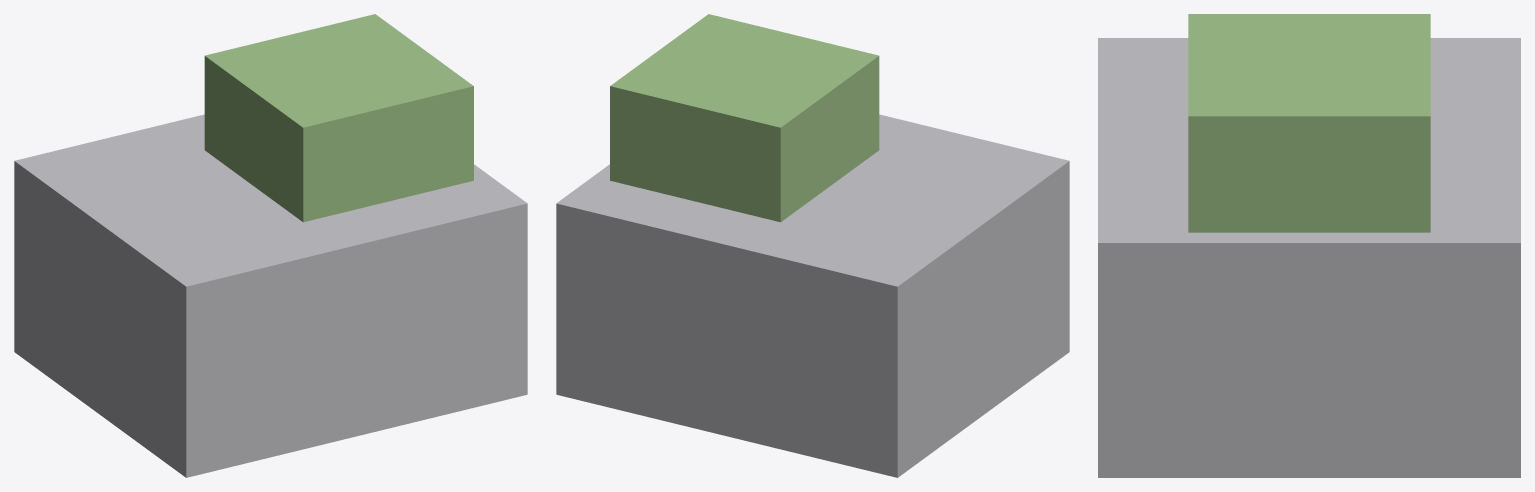
File: Prop_Dress_AMF_Rock_V18.glb
3 views of the same model, side by side, from view 1: azimuth 30°, elevation 25°; view 2: azimuth 150°, elevation 25°; view 3: azimuth 270°, elevation 25° (orthographic). The views are drawn at different scales.
Visible parts, largest first — view 1: Prop_Dress_AMF_Rock_V18; view 2: Prop_Dress_AMF_Rock_V18; view 3: Prop_Dress_AMF_Rock_V18.
Part boxes in pixels (<box>): Prop_Dress_AMF_Rock_V18: <box>14,14,527,477</box>; Prop_Dress_AMF_Rock_V18: <box>556,14,1069,477</box>; Prop_Dress_AMF_Rock_V18: <box>1098,14,1520,477</box>.
Size of the model in its own units: 1.53 by 1.22 by 1.34.
